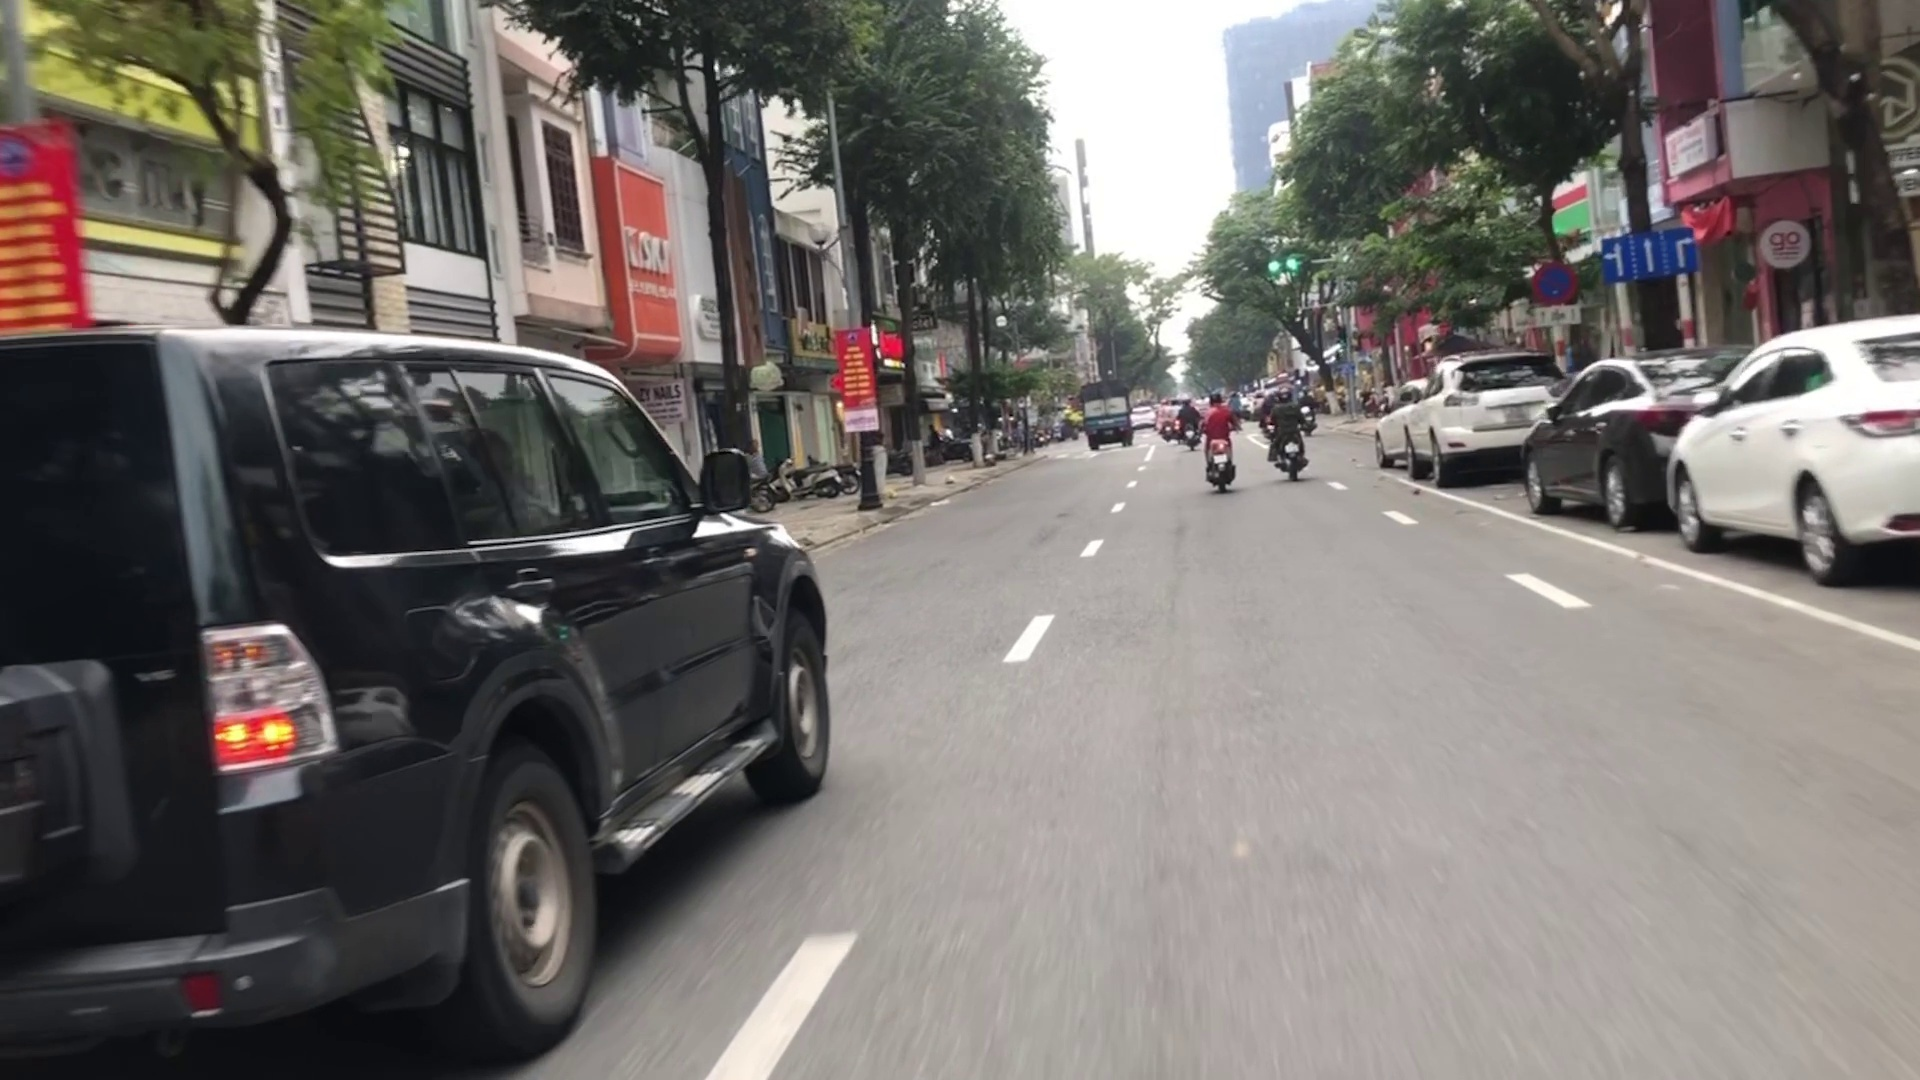Bien khac: (1600, 227, 1698, 284)
Cam do xe: (1532, 249, 1575, 303)
